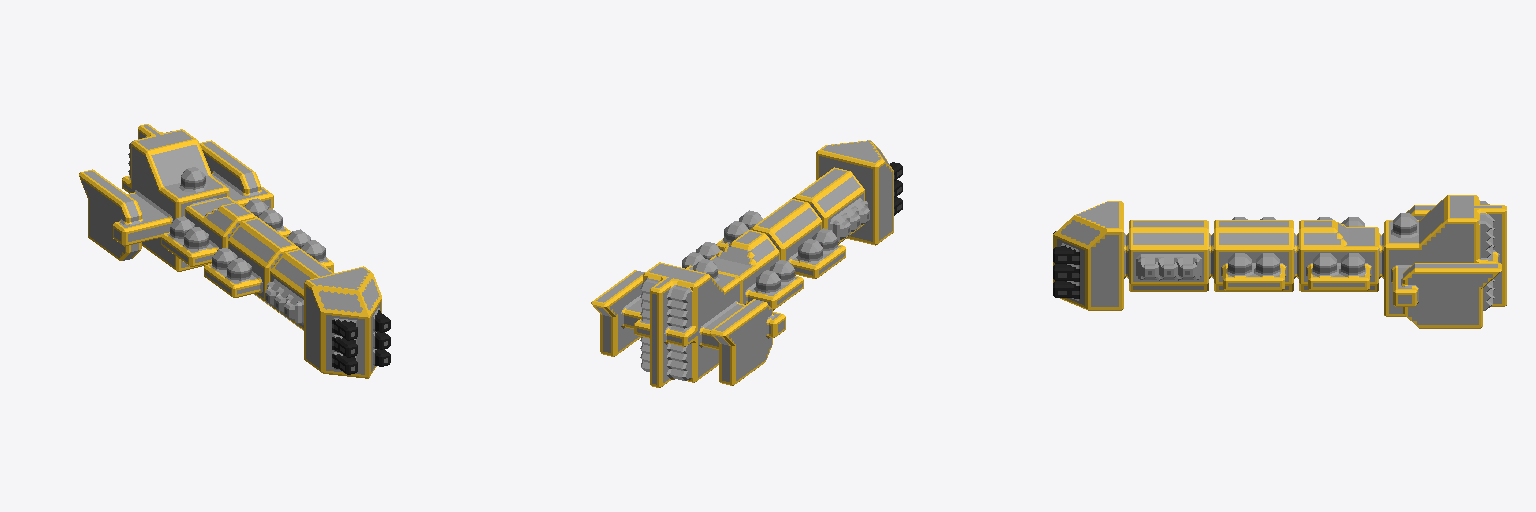
3 views of the same model, side by side, from view 1: azimuth 30°, elevation 25°; view 2: azimuth 150°, elevation 25°; view 3: azimuth 270°, elevation 25° (orthographic).
Bounding box in the file's own units: 37 × 23 × 96.
Materials: 1 (1 with a texture image).